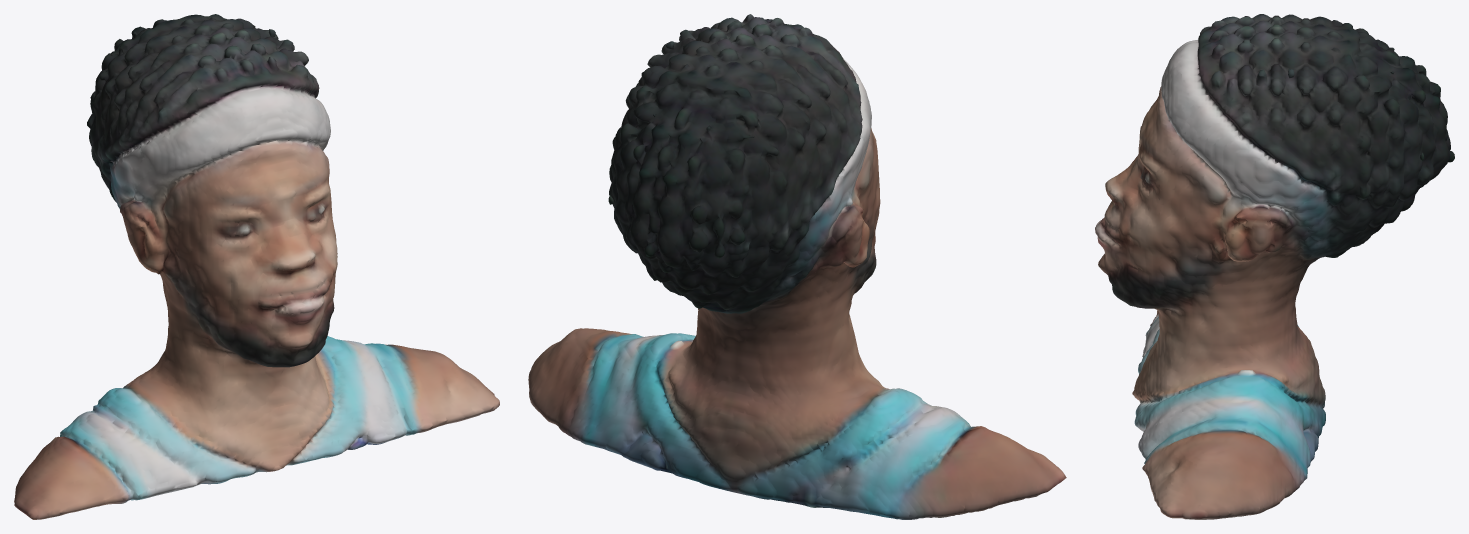
The picture shows the model from 3 angles, left to right: view 1: azimuth 30°, elevation 25°; view 2: azimuth 150°, elevation 25°; view 3: azimuth 270°, elevation 25°; orthographic projection. The views are drawn at different scales.
Parts seen in each view (by area): view 1: geometry_0; view 2: geometry_0; view 3: geometry_0.
Boxes of the visible parts, x1,y1,x2,y2 form: geometry_0: (14, 14, 499, 519); geometry_0: (528, 14, 1066, 519); geometry_0: (1095, 14, 1454, 519).
Bounding box in the file's own units: 0.9941 × 0.8146 × 0.6635.
